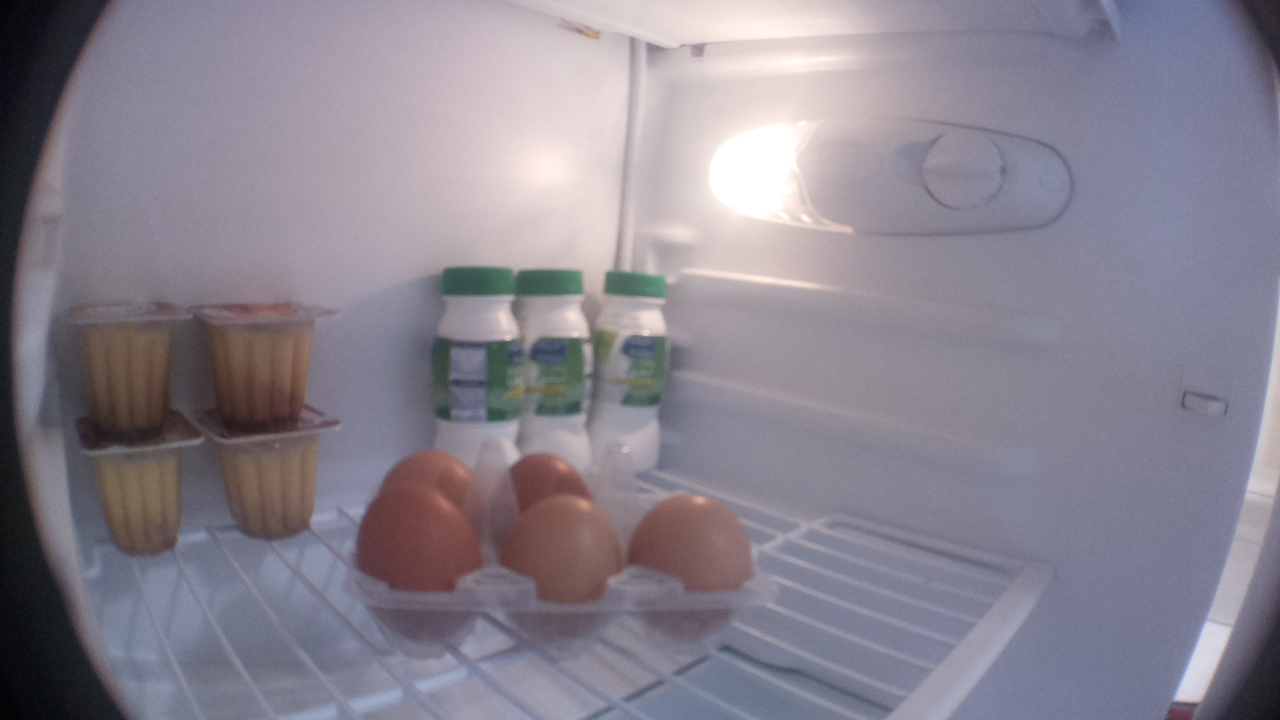caramel: (55, 296, 193, 442), (188, 292, 335, 428), (66, 423, 202, 561), (203, 417, 349, 542)
egg: (626, 476, 759, 655), (349, 479, 483, 651), (489, 495, 635, 648), (375, 448, 482, 523), (497, 447, 596, 526)
laban: (413, 256, 533, 464), (596, 258, 678, 472), (516, 262, 599, 467)
